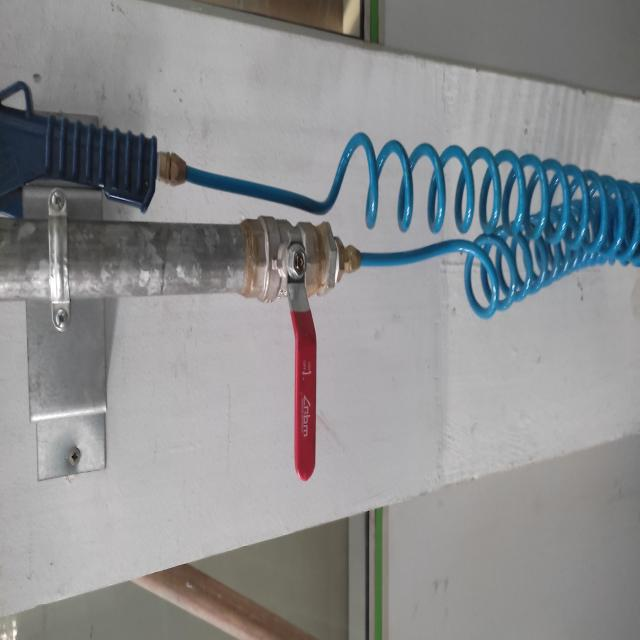closed_valve: (249, 210, 333, 483)
